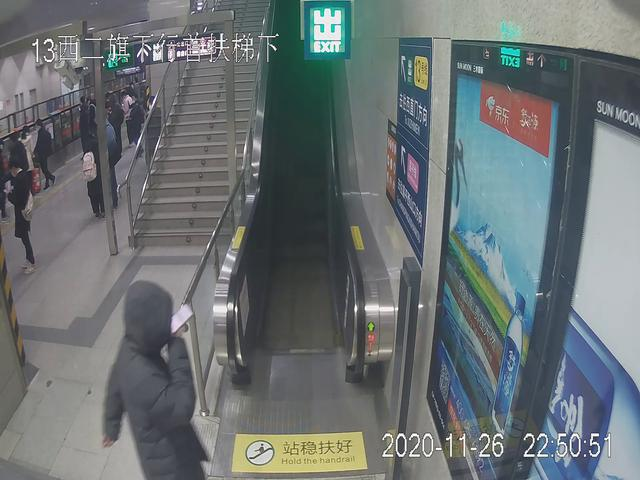person: (104, 279, 220, 480), (6, 161, 35, 275), (121, 91, 137, 146)
